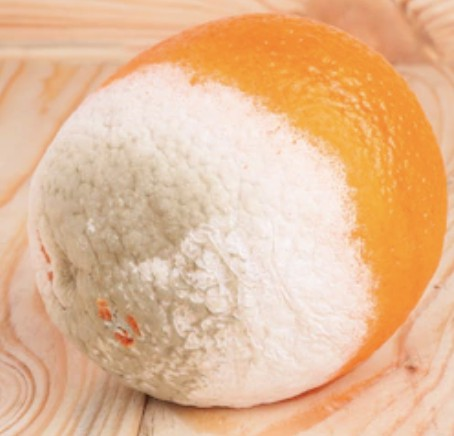rotten_orange: (29, 14, 448, 408)
